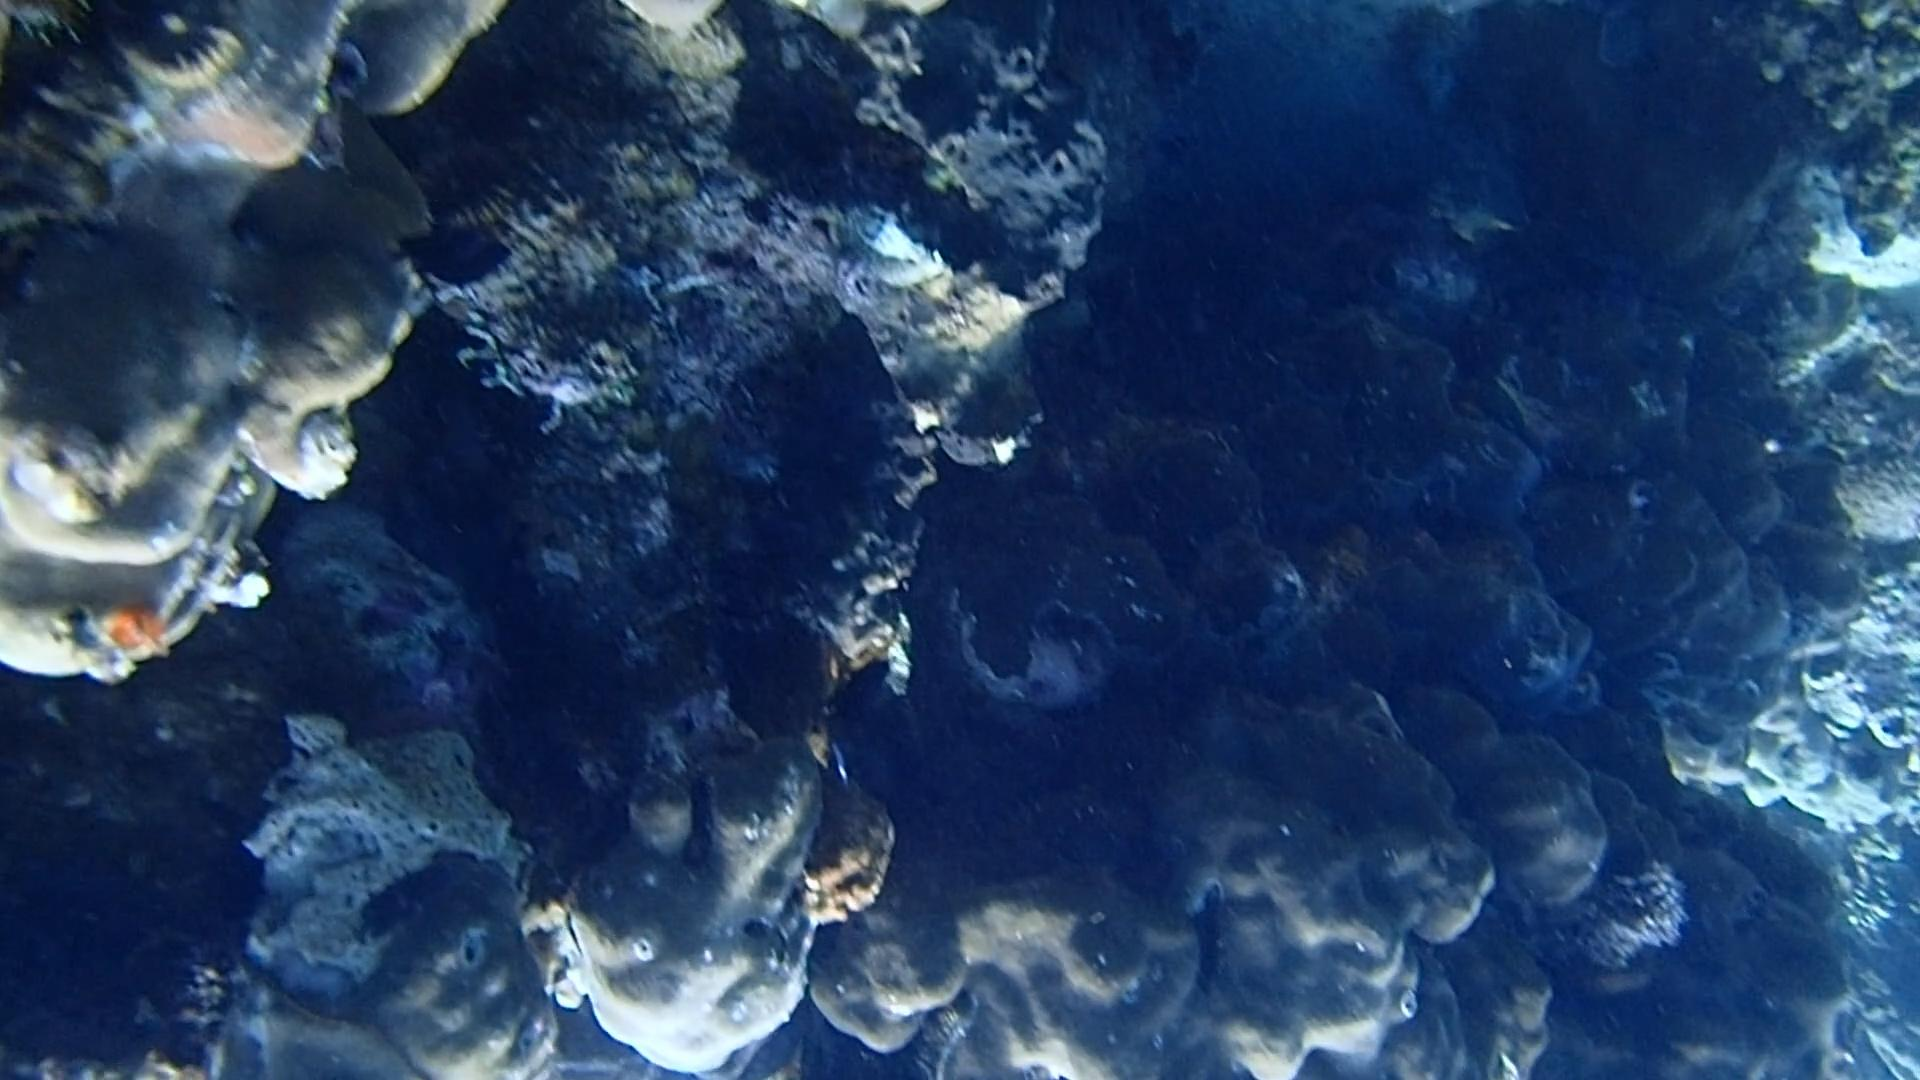Dark Fish: (390, 215, 524, 286)
